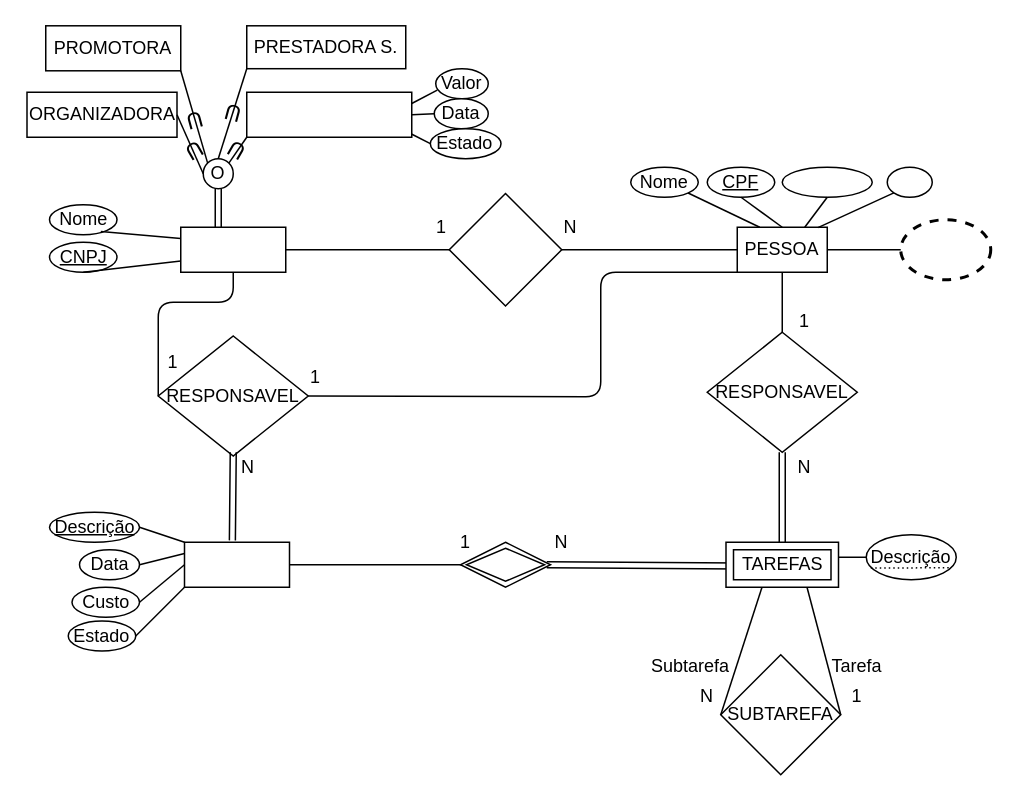
Some shapes in this 1017 by 803 pixel diagram are drawn without their labels. The shapes that lost their labels are listed below. From the top down, each one's box as (x1, y1, x2, y2) in pixels, then its label:
(245, 91, 412, 137): PATROCINADORA
(781, 166, 872, 197): Número
(886, 166, 932, 197): Tipo
(179, 226, 286, 272): EMPRESA
(448, 192, 562, 306): ASSOCIAR
(898, 218, 992, 280): Custo Inscrição
(183, 541, 290, 587): SERVIÇOS
(459, 541, 550, 587): TER
